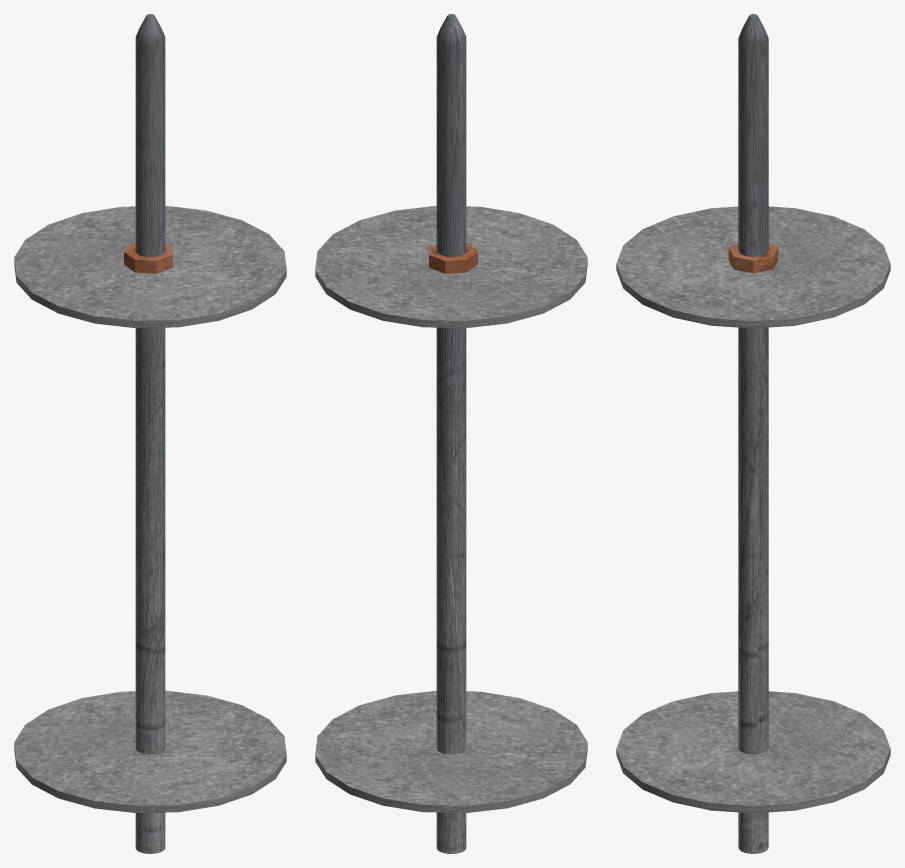
File: pole.obj
3 renders of one model, left to right at view 1: azimuth 30°, elevation 25°; view 2: azimuth 150°, elevation 25°; view 3: azimuth 270°, elevation 25°, orthographic.
Parts seen in each view (by area): view 1: Bottom_Plate_pCylinder3, Top_Plate_pCylinder4, Pole_pCylinder2, Top_Nut_pPipe3; view 2: Bottom_Plate_pCylinder3, Top_Plate_pCylinder4, Pole_pCylinder2, Top_Nut_pPipe3; view 3: Bottom_Plate_pCylinder3, Top_Plate_pCylinder4, Pole_pCylinder2, Top_Nut_pPipe3.
Part boxes in pixels (<box>): Bottom_Plate_pCylinder3: <box>14,690,286,812</box>; Top_Plate_pCylinder4: <box>14,206,286,328</box>; Pole_pCylinder2: <box>135,14,165,853</box>; Top_Nut_pPipe3: <box>124,242,172,273</box>; Bottom_Plate_pCylinder3: <box>315,690,587,812</box>; Top_Plate_pCylinder4: <box>315,206,587,328</box>; Pole_pCylinder2: <box>436,14,466,853</box>; Top_Nut_pPipe3: <box>429,242,477,273</box>; Bottom_Plate_pCylinder3: <box>616,691,890,813</box>; Top_Plate_pCylinder4: <box>616,206,890,328</box>; Pole_pCylinder2: <box>738,14,768,853</box>; Top_Nut_pPipe3: <box>728,243,778,273</box>.
Bounding box in the file's own units: 1.64 × 5.5 × 1.64.
3 materials, 3 textured.
